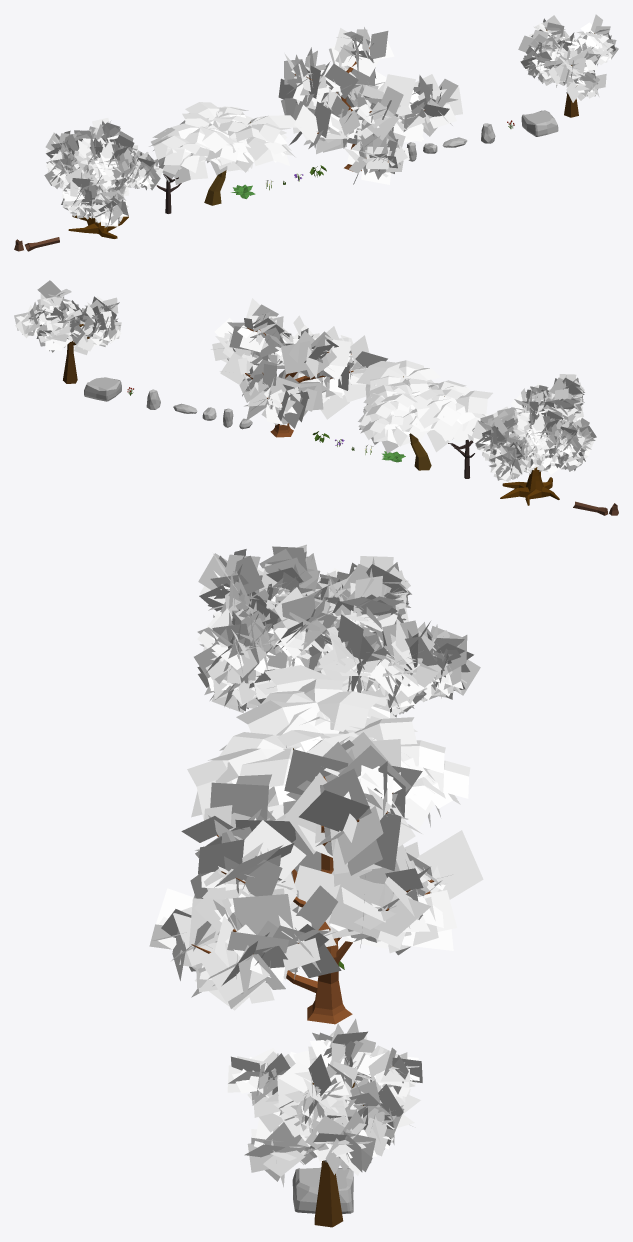
File: env.glb
The picture shows the model from 3 angles, top to bottom: view 1: azimuth 30°, elevation 25°; view 2: azimuth 150°, elevation 25°; view 3: azimuth 270°, elevation 25°; orthographic projection. The views are drawn at different scales.
Visible parts, largest first — view 1: Wizard_tree, TreeGreen_02, Tree_Green_03, Tree_green01, Stone_table; view 2: Wizard_tree, TreeGreen_02, Tree_Green_03, Tree_green01, Stone_table; view 3: Wizard_tree, TreeGreen_02, Tree_green01, Tree_Green_03, Stone_table.
Boxes of the visible parts, <box> form: Wizard_tree: <box>278,27,462,184</box>; TreeGreen_02: <box>44,118,163,238</box>; Tree_Green_03: <box>149,102,301,205</box>; Tree_green01: <box>518,14,618,117</box>; Stone_table: <box>521,110,558,136</box>; Wizard_tree: <box>211,298,387,437</box>; TreeGreen_02: <box>471,374,596,505</box>; Tree_Green_03: <box>356,360,492,470</box>; Tree_green01: <box>14,280,121,383</box>; Stone_table: <box>84,377,121,401</box>; Wizard_tree: <box>149,732,483,1024</box>; TreeGreen_02: <box>194,544,480,717</box>; Tree_green01: <box>227,1018,422,1227</box>; Tree_Green_03: <box>187,665,470,870</box>; Stone_table: <box>292,1167,353,1213</box>.
Bounding box in the file's own units: 86.87 × 19.17 × 21.09.
